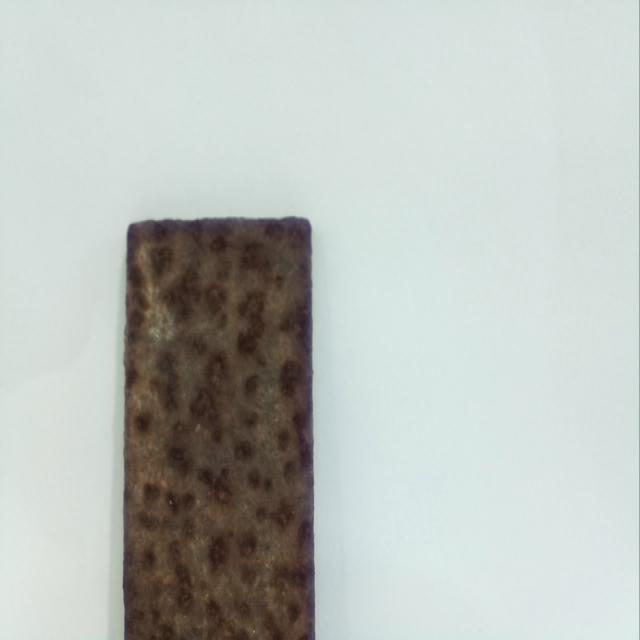Corrosion: (125, 220, 315, 640)
